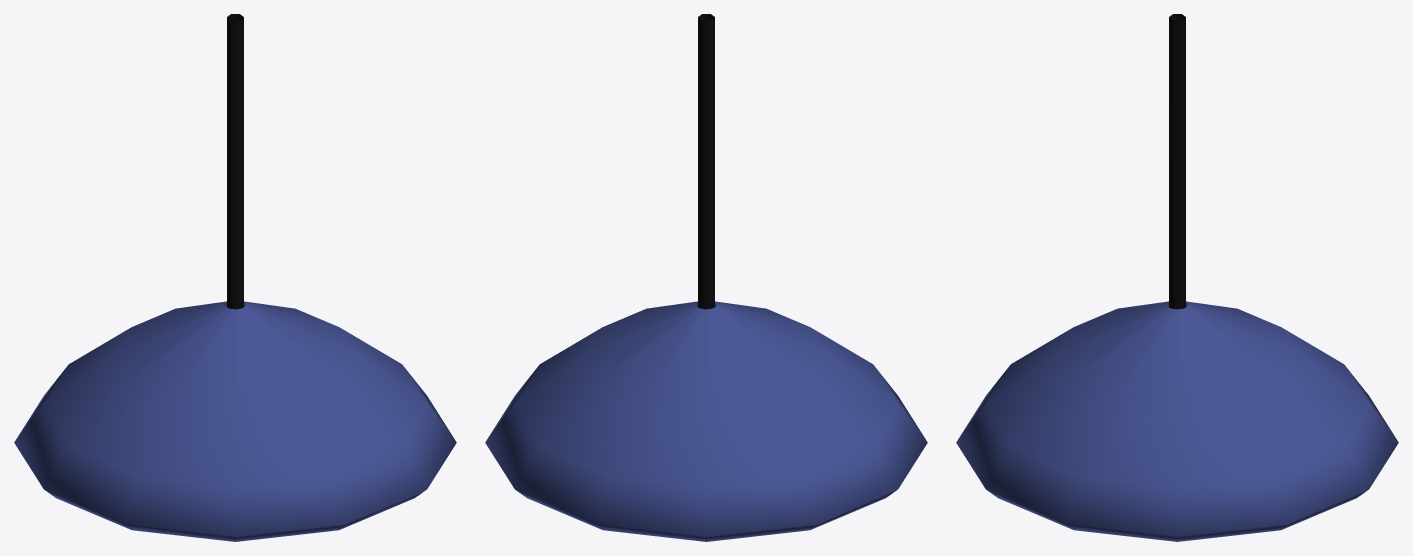
Rendered from Lamp.fbx.
3 views of the same model, side by side, from view 1: azimuth 30°, elevation 25°; view 2: azimuth 150°, elevation 25°; view 3: azimuth 270°, elevation 25° (orthographic).
Visible parts, largest first — view 1: Lamp; view 2: Lamp; view 3: Lamp.
Boxes of the visible parts, x1=… form: Lamp: x1=14, y1=14, x2=456, y2=541; Lamp: x1=485, y1=14, x2=927, y2=541; Lamp: x1=956, y1=14, x2=1398, y2=541.
Bounding box in the file's own units: 61.67 × 72.2 × 61.67.
